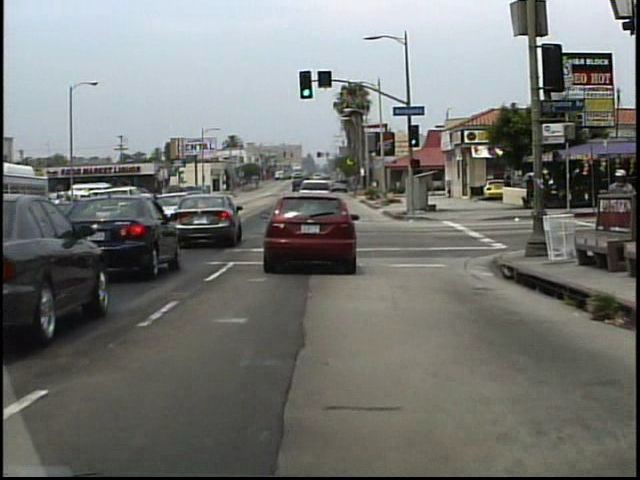person: (598, 164, 634, 256), (500, 173, 512, 207)
